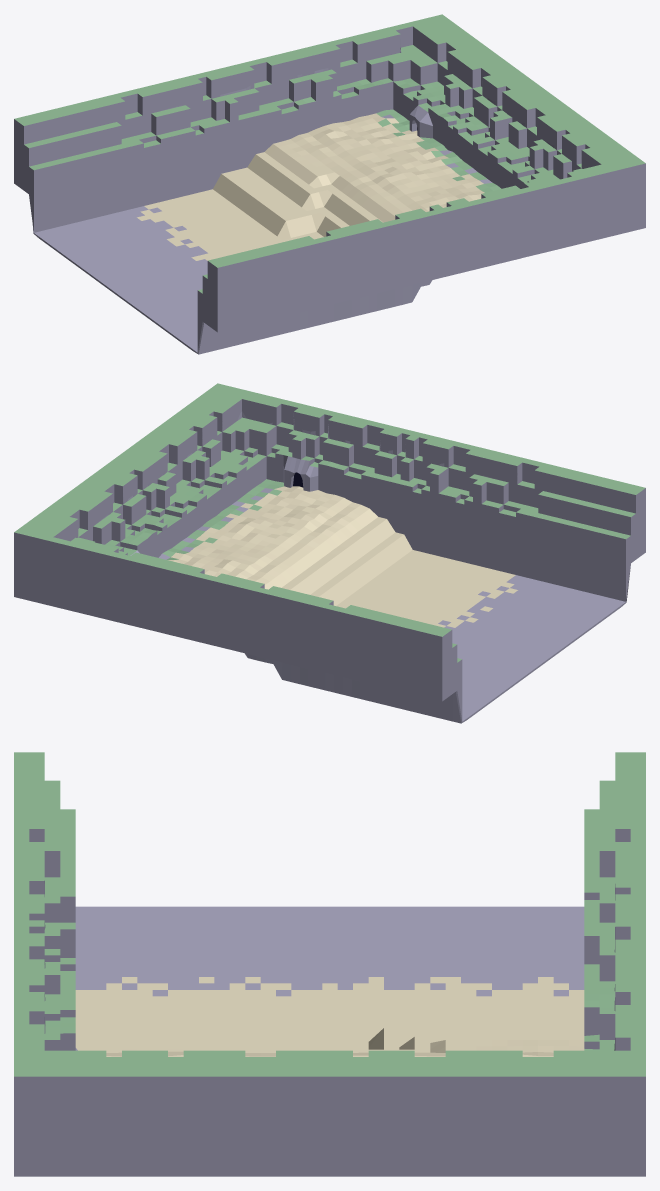
Rendered from stage_UtopiaBeach.fbx.
3 views of the same model, one above another, from view 1: azimuth 30°, elevation 25°; view 2: azimuth 150°, elevation 25°; view 3: azimuth 270°, elevation 25° (orthographic). The views are drawn at different scales.
Parts seen in each view (by area): view 1: ground; view 2: ground; view 3: ground.
Part boxes in pixels (box(x1,y1,x2,y2)): ground: box(14, 14, 645, 354); ground: box(14, 383, 645, 723); ground: box(14, 752, 645, 1176).
Bounding box in the file's own units: 4858 × 1098 × 4000.
